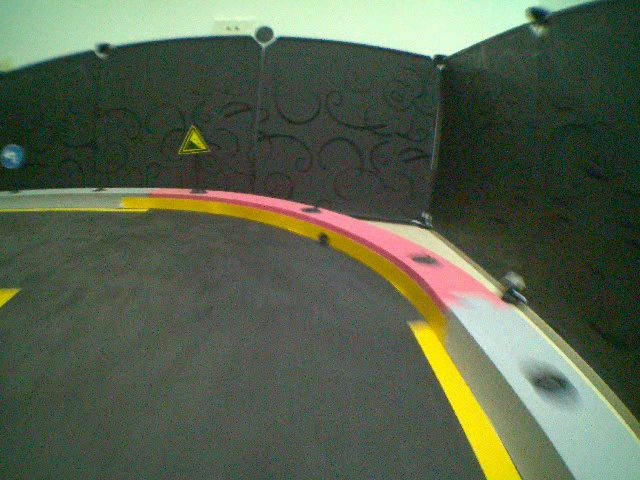fast: (174, 124, 214, 157)
